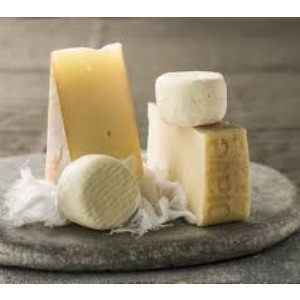cheese_brain food: (148, 93, 248, 228), (44, 84, 129, 229)
